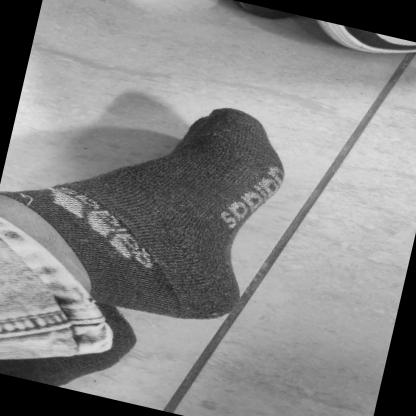ankle: (83, 236, 100, 247)
heel: (206, 304, 223, 314)
left_foot: (2, 68, 299, 339)
pinky: (191, 133, 198, 137)
toe: (236, 119, 255, 131)
